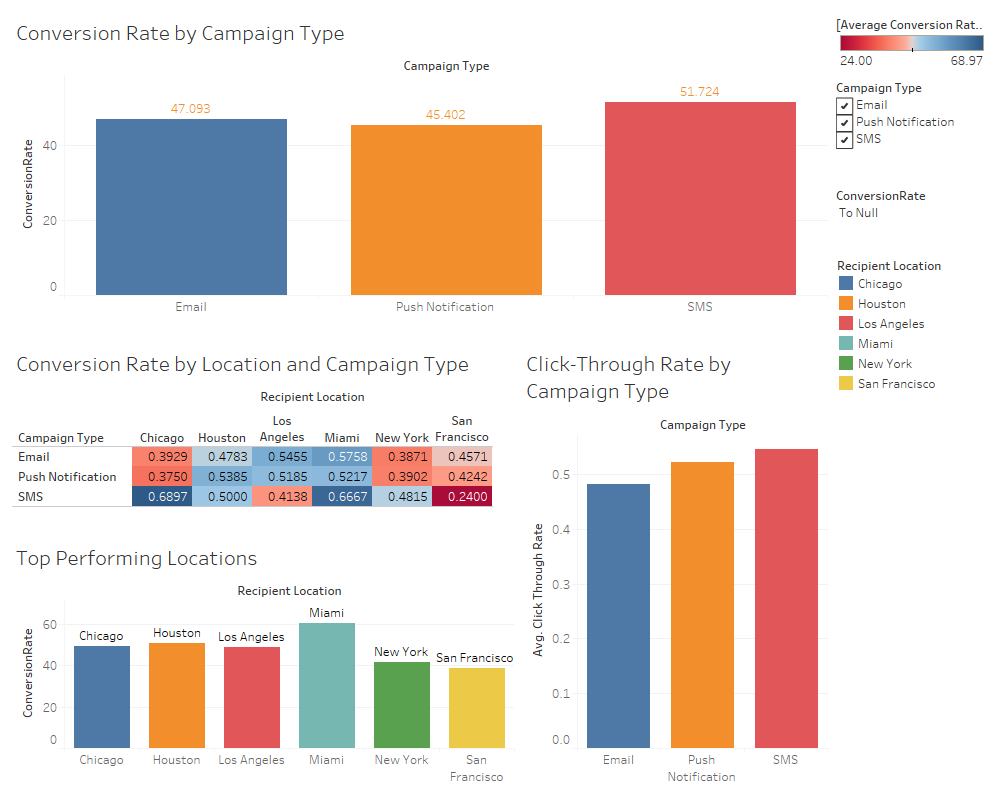

The page's visual inventory and layout, read from the dashboard file:
{"tool":"tableau","page":{"name":"Dashboard 1","canvas":[1000,800],"ordinal":0},"visuals":[{"type":"worksheet","title":"Conversion Rate by Campaign Type","mark":"Bar","rows":["Calculation_2577184927336964096"],"cols":["Campaign_Type"],"box":[8,8,824,331]},{"type":"legend","title":"Conversion Rate by Location and Campaign Type","param":"[federated.0dngeor1vo60d014dfye41aj3m2q].[usr:Calculation_2577184927342833667:qk","box":[832,8,160,65]},{"type":"filter","title":"Conversion Rate by Campaign Type","param":"[federated.0dngeor1vo60d014dfye41aj3m2q].[none:Campaign_Type:nk]","box":[832,73,160,108]},{"type":"filter","title":"Conversion Rate by Campaign Type","param":"[federated.0dngeor1vo60d014dfye41aj3m2q].[usr:Calculation_2577184927336964096:qk","box":[832,181,160,69]},{"type":"legend","title":"Top Performing Locations","param":"[federated.0dngeor1vo60d014dfye41aj3m2q].[none:Recipient_Location:nk]","box":[832,250,160,146]},{"type":"worksheet","title":"Conversion Rate by Location and Campaign Type","mark":"Square","rows":["Campaign_Type"],"cols":["Recipient_Location"],"box":[8,339,510,194]},{"type":"worksheet","title":"Click-Through Rate by Campaign Type","mark":"Bar","rows":["Click_Through_Rate"],"cols":["Campaign_Type"],"box":[518,339,314,453]},{"type":"worksheet","title":"Top Performing Locations","mark":"Bar","rows":["Calculation_2577184927336964096"],"cols":["Recipient_Location"],"box":[8,533,510,259]}]}

Visuals, with their boxes in screenshot pixels (x1, y1, x2, y2), scaled from the page's 1000x800 canvas onto the 1000x800 screenshot:
"Conversion Rate by Campaign Type" worksheet (Bar marks): left=8, top=8, right=832, bottom=339
"Conversion Rate by Location and Campaign Type" legend: left=832, top=8, right=992, bottom=73
"Conversion Rate by Campaign Type" filter: left=832, top=73, right=992, bottom=181
"Conversion Rate by Campaign Type" filter: left=832, top=181, right=992, bottom=250
"Top Performing Locations" legend: left=832, top=250, right=992, bottom=396
"Conversion Rate by Location and Campaign Type" worksheet (Square marks): left=8, top=339, right=518, bottom=533
"Click-Through Rate by Campaign Type" worksheet (Bar marks): left=518, top=339, right=832, bottom=792
"Top Performing Locations" worksheet (Bar marks): left=8, top=533, right=518, bottom=792
